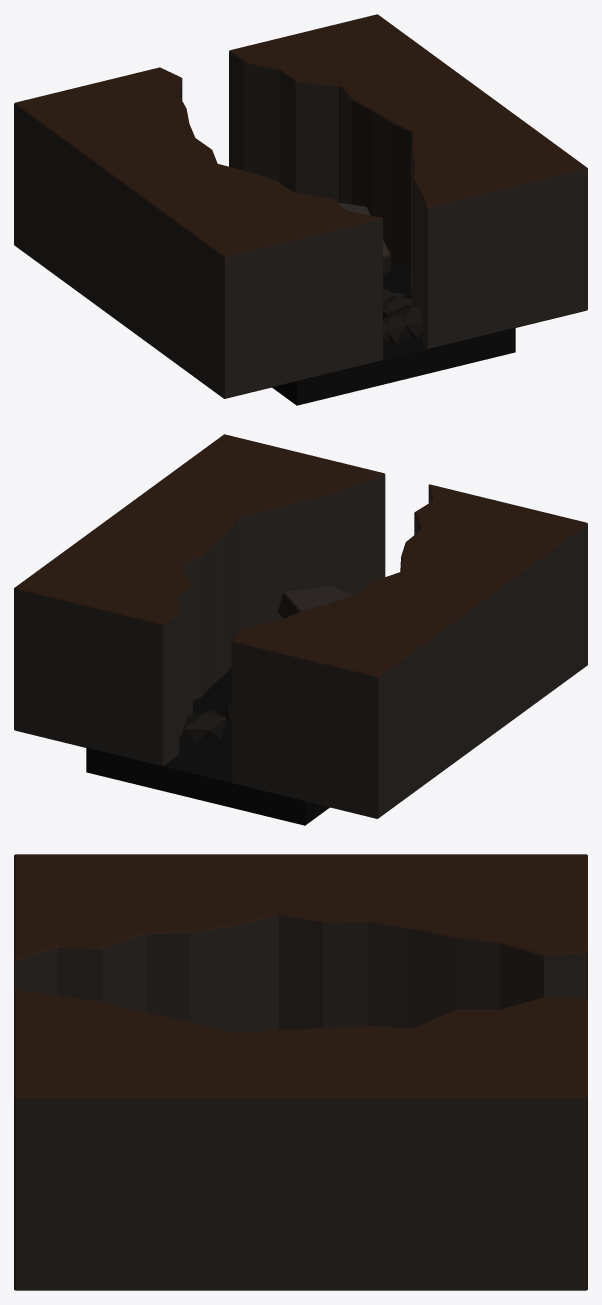
File: DISASTER_08_GroundFissureModule.obj
3 views of the same model, one above another, from view 1: azimuth 30°, elevation 25°; view 2: azimuth 150°, elevation 25°; view 3: azimuth 270°, elevation 25° (orthographic). The views are drawn at different scales.
Visible parts, largest first — view 1: DISASTER_08_GroundFissureModule_Plate_West, DISASTER_08_GroundFissureModule_Plate_East, DISASTER_08_GroundFissureModule_Chasm_Floor, DISASTER_08_GroundFissureModule_Chasm_Rubble; view 2: DISASTER_08_GroundFissureModule_Plate_West, DISASTER_08_GroundFissureModule_Plate_East, DISASTER_08_GroundFissureModule_Chasm_Floor, DISASTER_08_GroundFissureModule_Slab_Fallen, DISASTER_08_GroundFissureModule_Chasm_Rubble; view 3: DISASTER_08_GroundFissureModule_Plate_East, DISASTER_08_GroundFissureModule_Plate_West.
Part boxes in pixels (x1,y1,x2,y2): DISASTER_08_GroundFissureModule_Plate_West: (14,67,382,398); DISASTER_08_GroundFissureModule_Plate_East: (229,14,587,348); DISASTER_08_GroundFissureModule_Chasm_Floor: (272,264,515,405); DISASTER_08_GroundFissureModule_Chasm_Rubble: (383,289,422,345); DISASTER_08_GroundFissureModule_Plate_West: (231,484,587,818); DISASTER_08_GroundFissureModule_Plate_East: (14,434,385,765); DISASTER_08_GroundFissureModule_Chasm_Floor: (86,667,329,825); DISASTER_08_GroundFissureModule_Slab_Fallen: (278,586,352,618); DISASTER_08_GroundFissureModule_Chasm_Rubble: (182,704,231,743); DISASTER_08_GroundFissureModule_Plate_East: (14,989,587,1290); DISASTER_08_GroundFissureModule_Plate_West: (14,854,587,1032).
Bounding box in the file's own units: 4 × 1.75 × 4.
